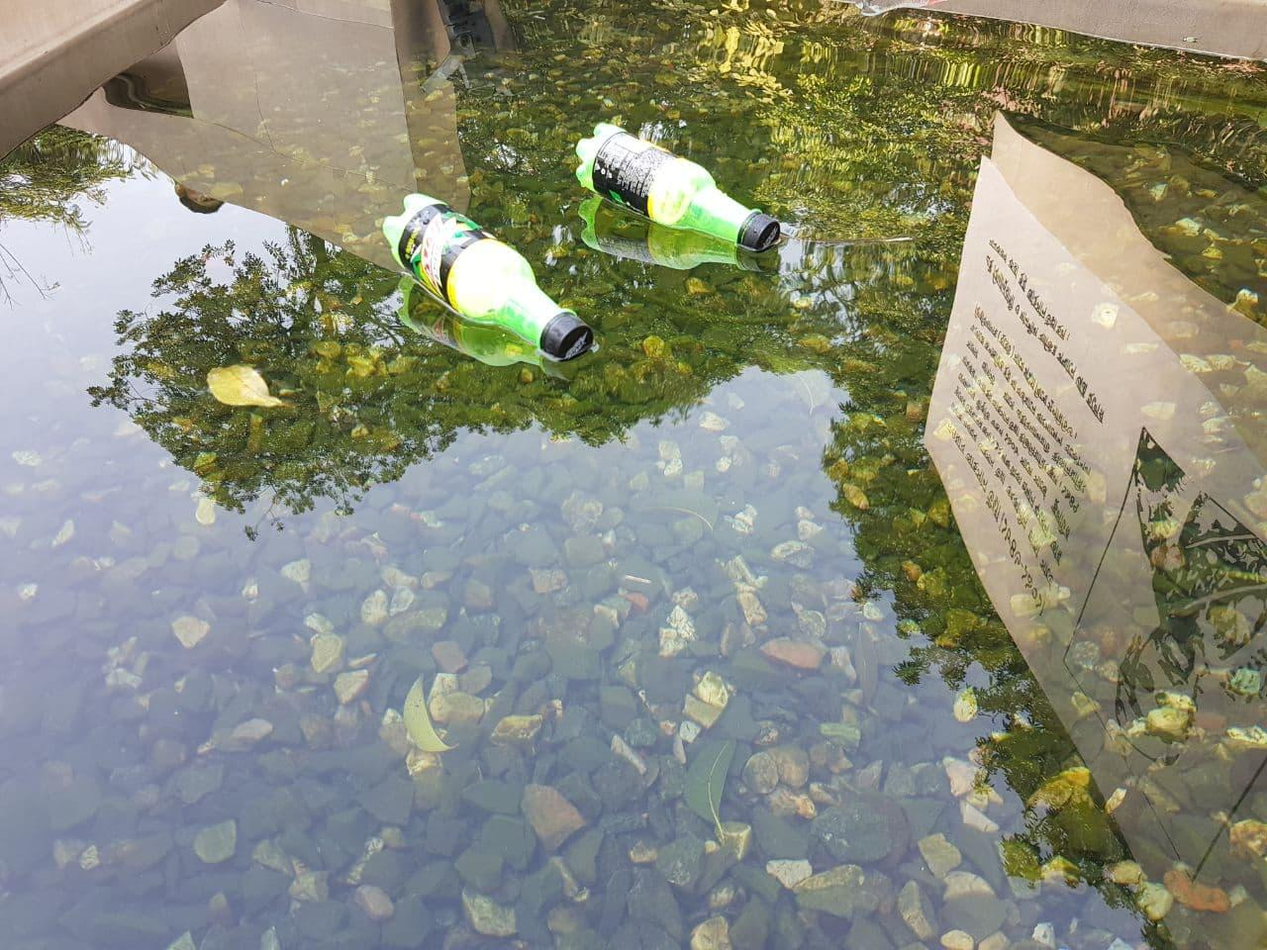trash_plastic: (371, 184, 598, 365), (575, 117, 783, 252)
